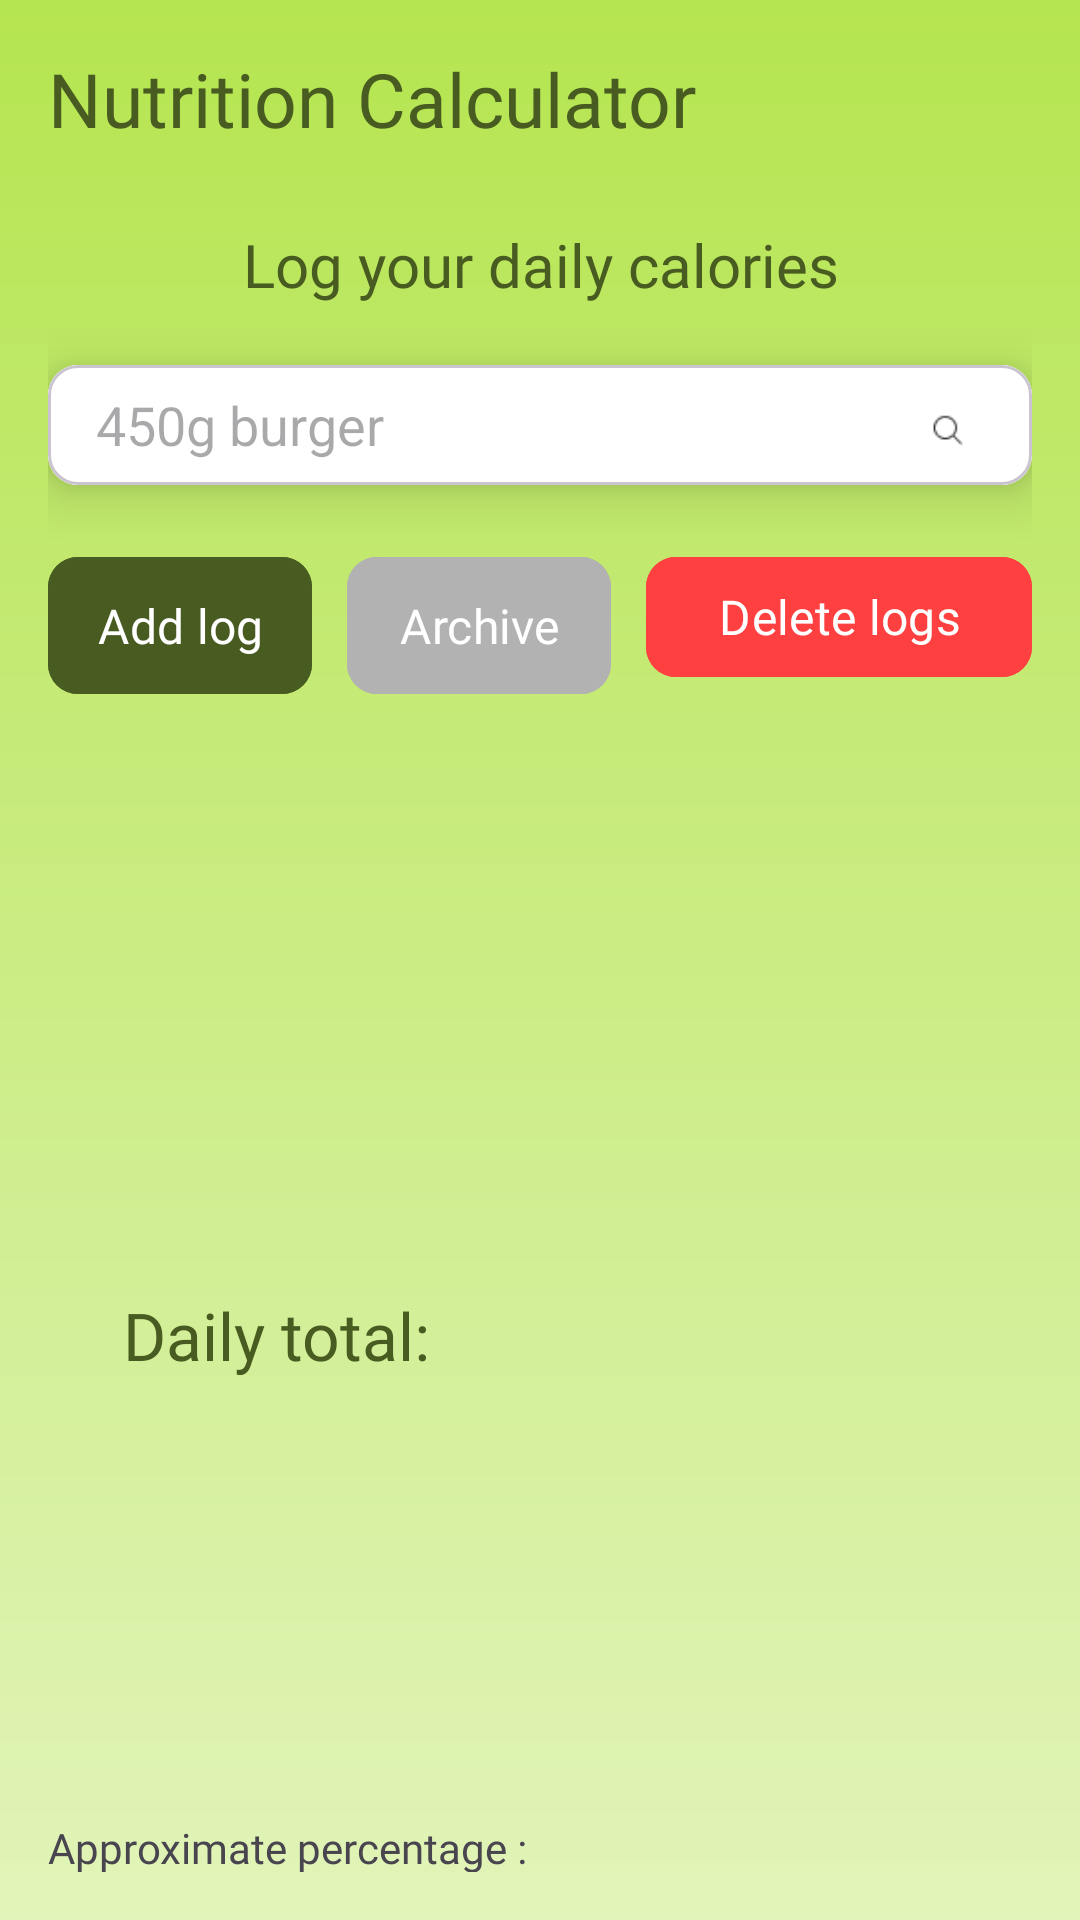

Named icons in this screenshot (1080px×1920px) and their centers, point (x, y):
search: point (948, 430)
